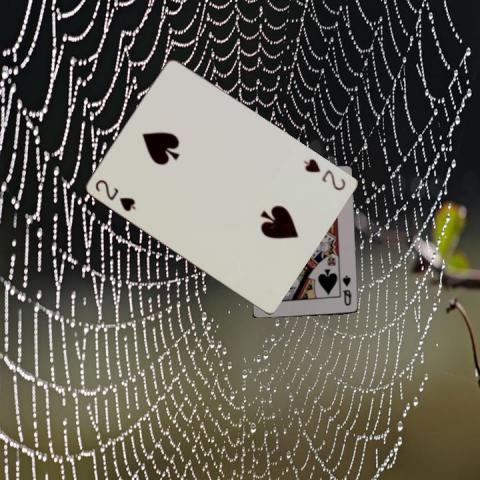2s: (301, 155, 347, 193), (92, 177, 138, 213)
Qs: (339, 272, 353, 306)
